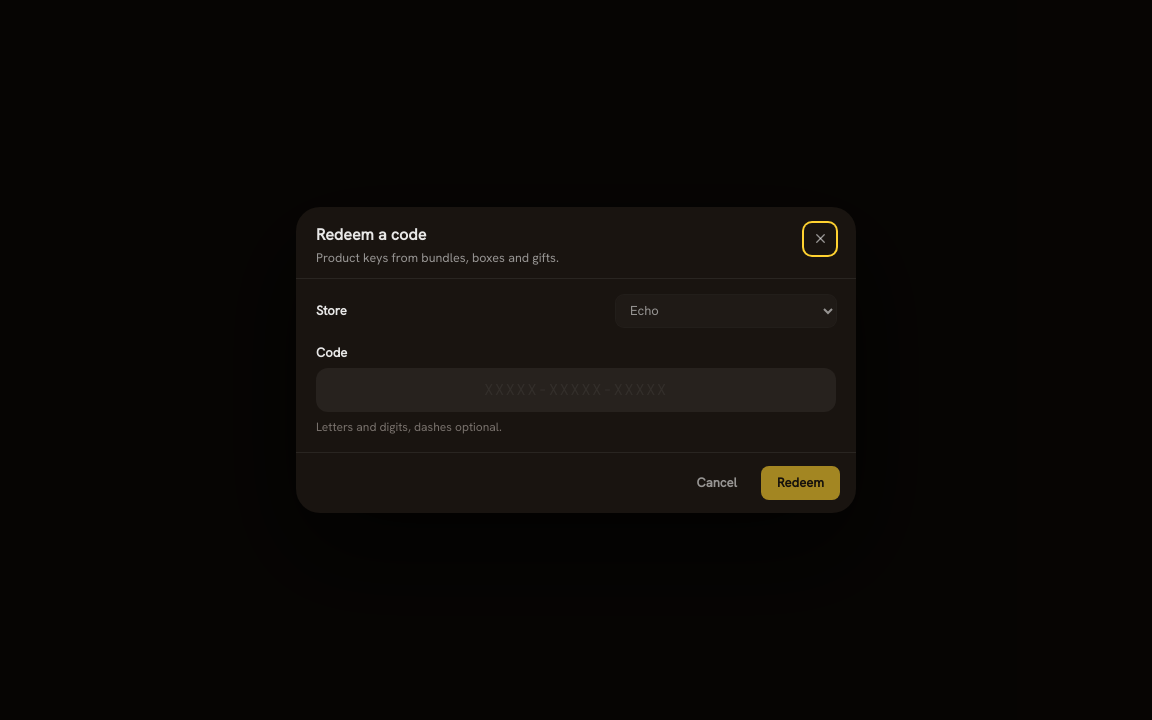
it: redeem a code › shows the store's readable failure and keeps the code for another try
Type "nope" into the field labelled "Code" at (576, 390), box [316,368,836,412]
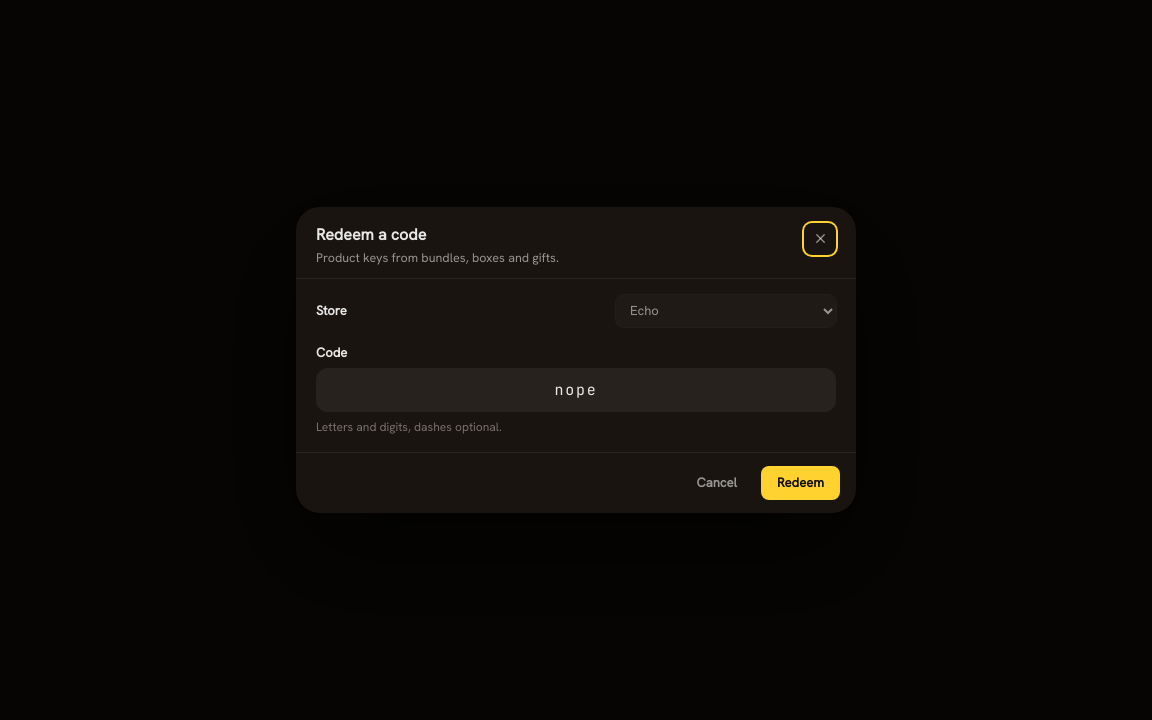
Click the button "Redeem" at (800, 483), box [761,466,840,500]
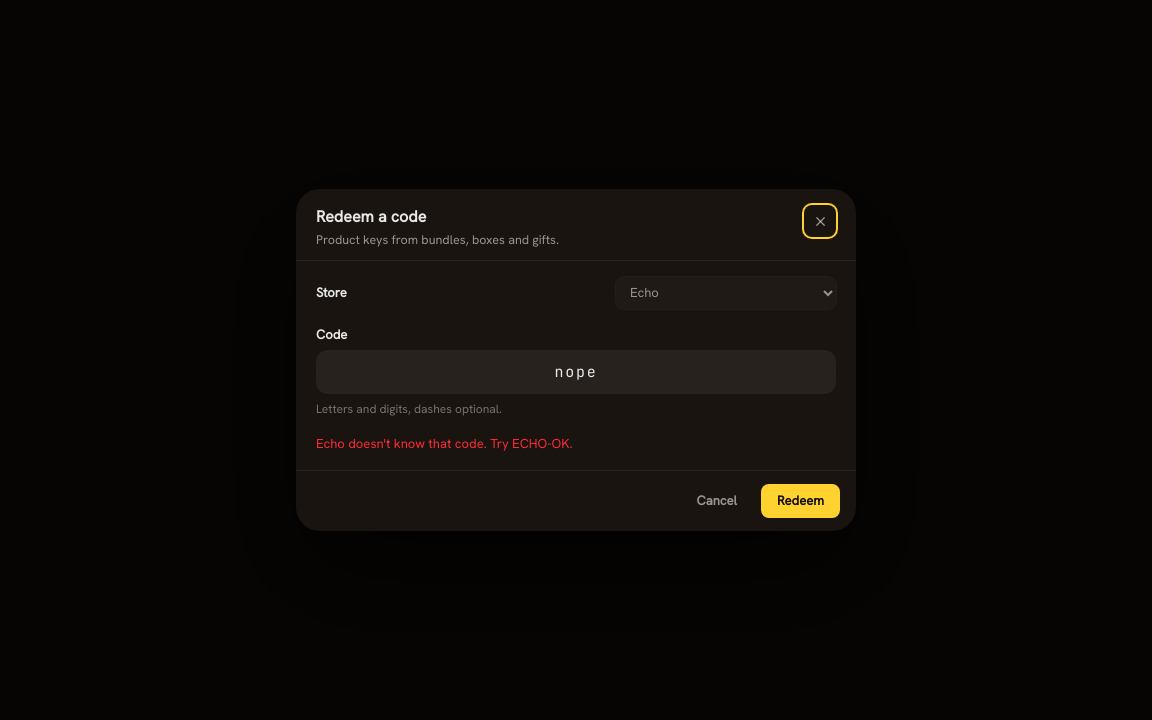
Check: the message reads "Echo doesn't know that code. Try ECHO-OK.", box [316,435,573,452]
